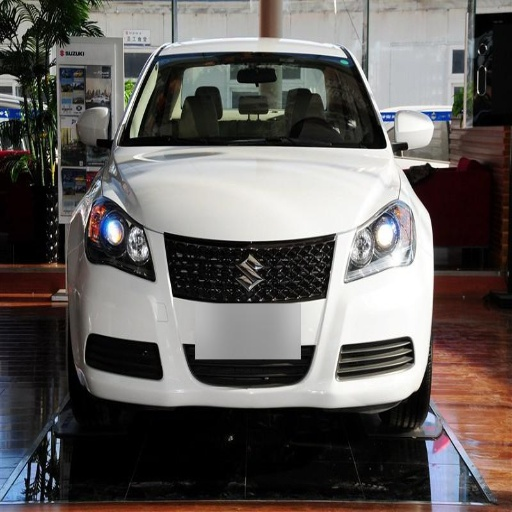front_bumper: (77, 226, 431, 407)
front_right_light: (87, 195, 154, 280)
hood: (105, 146, 398, 241)
left_mirror: (394, 112, 432, 155)
